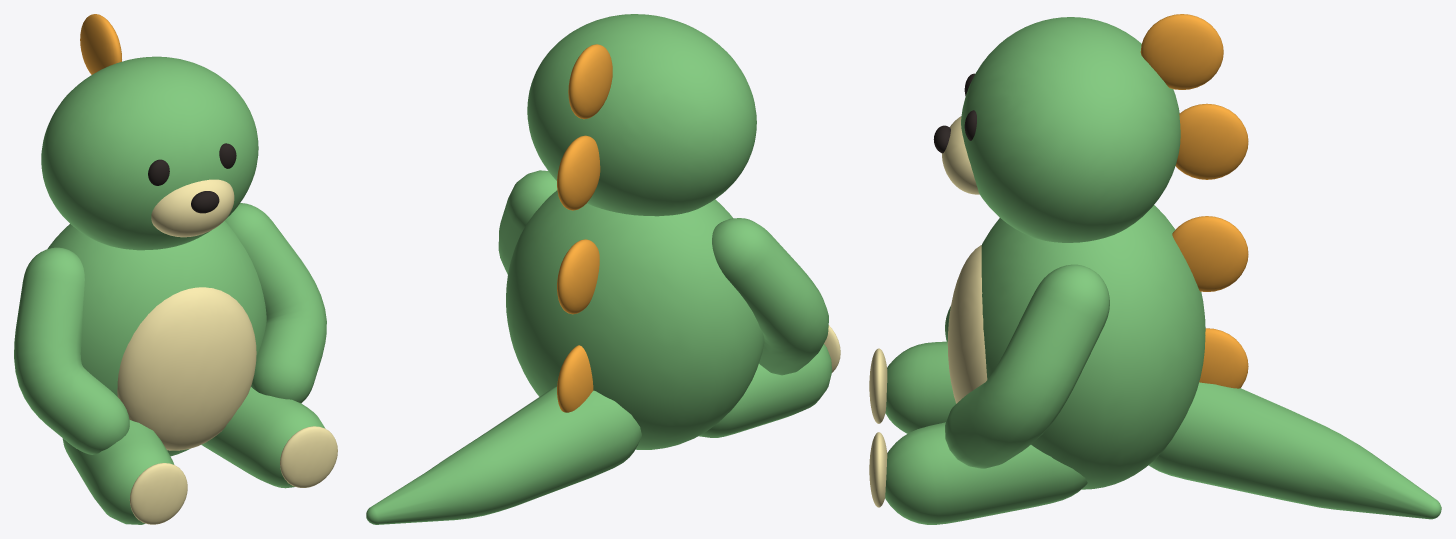
Rendered from deco_dino_peluche.glb.
3 renders of one model, left to right at view 1: azimuth 30°, elevation 25°; view 2: azimuth 150°, elevation 25°; view 3: azimuth 270°, elevation 25°, orthographic. The views are drawn at different scales.
Parts seen in each view (by area): view 1: cabeza dino.001, barriga dino.001, panza dino.001, brazo.024, brazo.025, pierna.023, pierna.022, hocico.011, planta pata.022, planta pata.023, púa peluche 0.001, nariz.011 (+1 smaller); view 2: panza dino.001, cabeza dino.001, cola dino.001, brazo.024, pierna.022, brazo.025, púa peluche 0.001, púa peluche 1.001, púa peluche 2.001, púa peluche 3.001; view 3: cabeza dino.001, panza dino.001, cola dino.001, brazo.025, pierna.023, pierna.022, púa peluche 0.001, púa peluche 1.001, barriga dino.001, púa peluche 2.001, púa peluche 3.001, hocico.011 (+2 smaller).
Boxes of the visible parts, x1=… form: cabeza dino.001: x1=41, y1=56, x2=258, y2=250; barriga dino.001: x1=117, y1=287, x2=256, y2=450; panza dino.001: x1=47, y1=220, x2=266, y2=456; brazo.024: x1=14, y1=247, x2=129, y2=454; brazo.025: x1=225, y1=203, x2=326, y2=403; pierna.023: x1=201, y1=387, x2=325, y2=488; pierna.022: x1=62, y1=420, x2=174, y2=524; hocico.011: x1=151, y1=179, x2=234, y2=237; planta pata.022: x1=129, y1=463, x2=187, y2=524; planta pata.023: x1=280, y1=426, x2=337, y2=487; púa peluche 0.001: x1=80, y1=14, x2=121, y2=74; nariz.011: x1=191, y1=191, x2=219, y2=213; panza dino.001: x1=506, y1=190, x2=764, y2=449; cabeza dino.001: x1=527, y1=14, x2=756, y2=216; cola dino.001: x1=366, y1=386, x2=641, y2=524; brazo.024: x1=712, y1=218, x2=828, y2=375; pierna.022: x1=699, y1=344, x2=832, y2=437; brazo.025: x1=498, y1=170, x2=557, y2=274; púa peluche 0.001: x1=568, y1=44, x2=612, y2=119; púa peluche 1.001: x1=557, y1=135, x2=600, y2=210; púa peluche 2.001: x1=557, y1=239, x2=599, y2=314; púa peluche 3.001: x1=557, y1=345, x2=593, y2=412; cabeza dino.001: x1=961, y1=17, x2=1180, y2=242; panza dino.001: x1=981, y1=205, x2=1205, y2=489; cola dino.001: x1=1148, y1=382, x2=1441, y2=519; brazo.025: x1=945, y1=264, x2=1109, y2=468; pierna.023: x1=885, y1=422, x2=1087, y2=524; pierna.022: x1=885, y1=341, x2=955, y2=433; púa peluche 0.001: x1=1140, y1=14, x2=1223, y2=89; púa peluche 1.001: x1=1175, y1=103, x2=1248, y2=179; barriga dino.001: x1=947, y1=245, x2=987, y2=403; púa peluche 2.001: x1=1172, y1=216, x2=1248, y2=291; púa peluche 3.001: x1=1199, y1=328, x2=1248, y2=388; hocico.011: x1=941, y1=116, x2=979, y2=194.
Bounding box in the file's own units: 0.3188 × 0.4142 × 0.4621.
